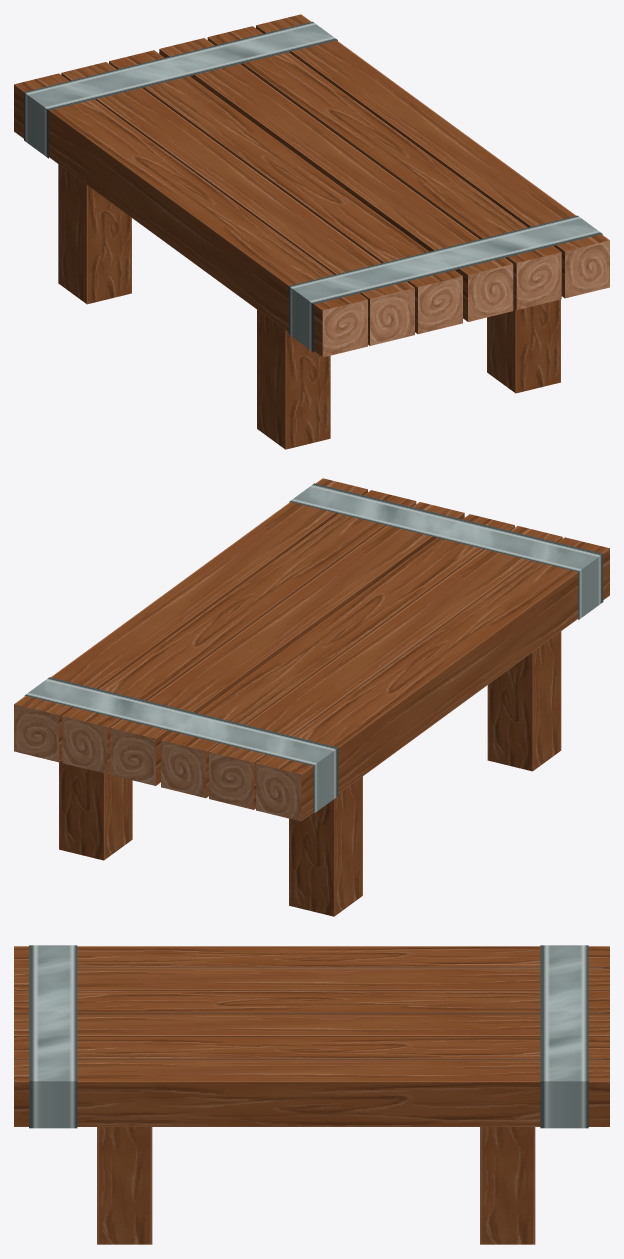
Rendered from WoodBed.fbx.
The picture shows the model from 3 angles, top to bottom: view 1: azimuth 30°, elevation 25°; view 2: azimuth 150°, elevation 25°; view 3: azimuth 270°, elevation 25°; orthographic projection. The views are drawn at different scales.
Visible parts, largest first — view 1: Cube; view 2: Cube; view 3: Cube.
Part boxes in pixels (bbox=[...]): Cube: bbox=[14, 14, 609, 449]; Cube: bbox=[14, 478, 609, 916]; Cube: bbox=[14, 945, 609, 1244].
Size of the model in its own units: 0.938 by 0.5358 by 1.74.
1 material, 1 textured.
